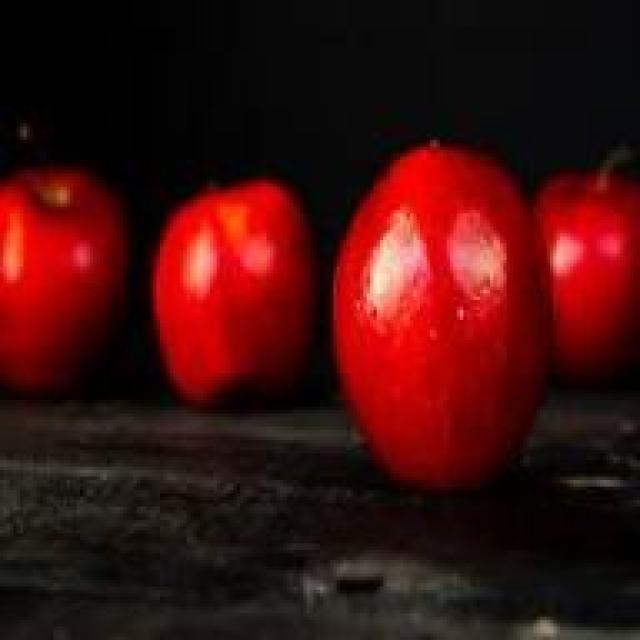apple: (337, 150, 543, 480), (153, 183, 317, 400), (3, 163, 134, 397), (533, 137, 640, 380)
